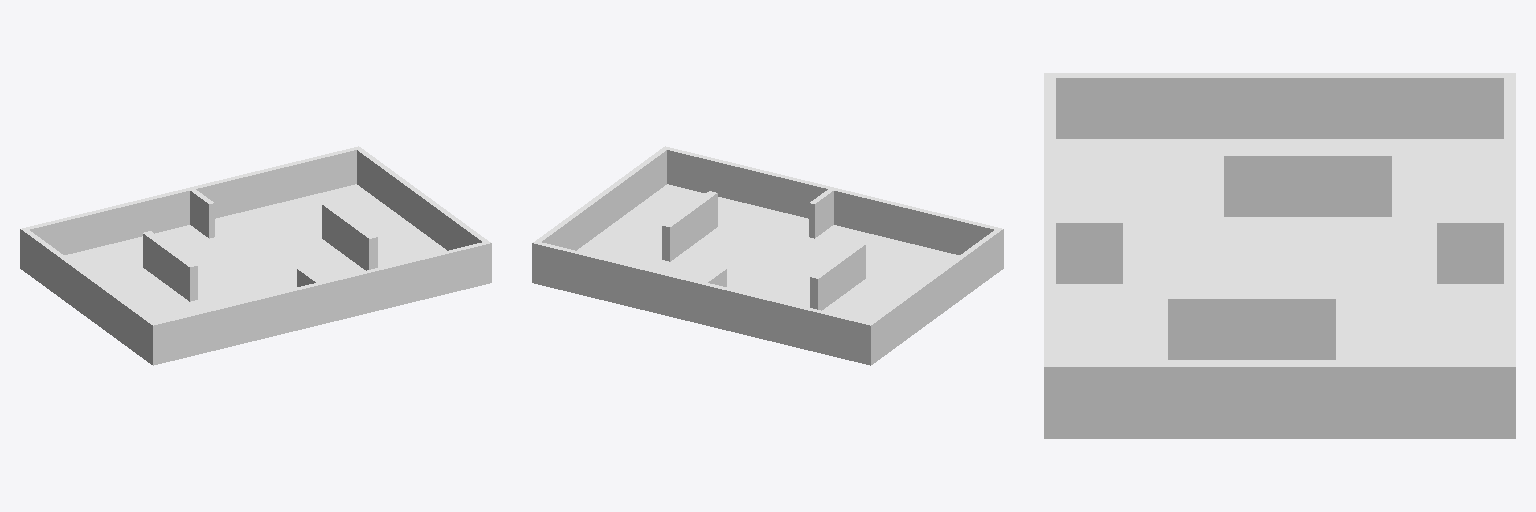
The robot description file, URDF, robot "arena":
<?xml version="1.0"?>
<robot name="arena">
    <link name="base_link">
        <contact>
            <lateral_friction value="1" />
        </contact>
        <visual>
            <geometry>
                <mesh filename="package://arena/meshes/arena.STL" scale="1 1 1" />
            </geometry>
            <material name="light_grey">
                <color rgba="0.98 0.98 0.98 1" />
            </material>
        </visual>
        <!-- <collision>
            <origin
                xyz="0 0 0"
                rpy="0 0 0" />
            <geometry>
                <mesh filename="package://arena/meshes/arena_vhacd.obj" scale="1 1 1" />
            </geometry>
        </collision> -->
    </link>
</robot>

--- Render facts (derived) ---
The picture shows the robot from 3 angles, left to right: view 1: azimuth 30°, elevation 25°; view 2: azimuth 150°, elevation 25°; view 3: azimuth 270°, elevation 25°; orthographic projection.
Robot: arena — 1 links, 0 joints (none); root link base_link; default pose: every joint at zero.
Links seen in each view (by area): view 1: base_link; view 2: base_link; view 3: base_link.
Link boxes in pixels (box(x1,y1,x2,y2)): base_link: box(20, 146, 491, 365); base_link: box(532, 146, 1003, 365); base_link: box(1044, 73, 1515, 438).
Size in the robot's own frame: 12.4 by 8.4 by 1.4 metres.
Meshes: 1 distinct files referenced, 1 mesh visuals loaded (1 binary STL).